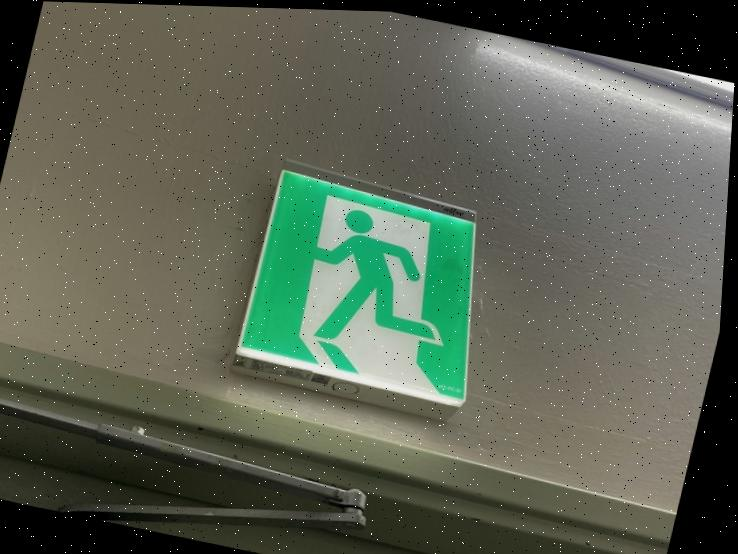emergency_exit: (232, 162, 478, 409)
